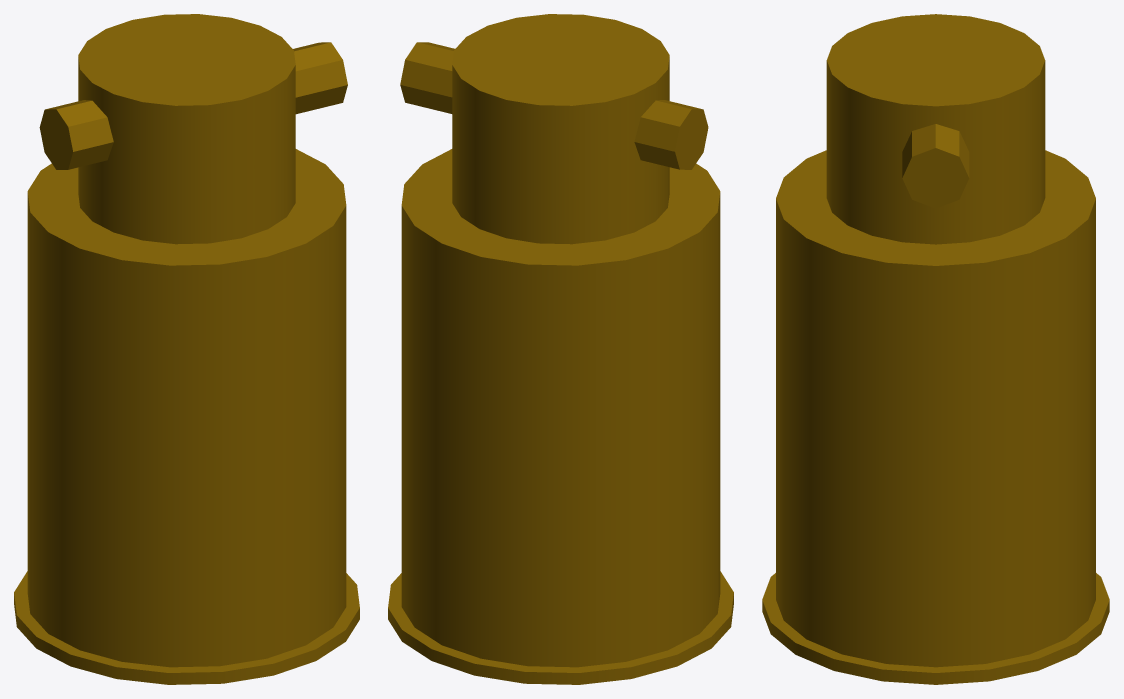
The model's file is Lamp_04_Head.fbx.
3 views of the same model, side by side, from view 1: azimuth 30°, elevation 25°; view 2: azimuth 150°, elevation 25°; view 3: azimuth 270°, elevation 25° (orthographic).
Visible parts, largest first — view 1: Lamp_04_Head; view 2: Lamp_04_Head; view 3: Lamp_04_Head.
Boxes of the visible parts, <box> form: Lamp_04_Head: <box>14,14,359,684</box>; Lamp_04_Head: <box>388,14,733,684</box>; Lamp_04_Head: <box>762,14,1109,684</box>.
Size of the model in its own units: 21.55 by 37.73 by 21.56.
